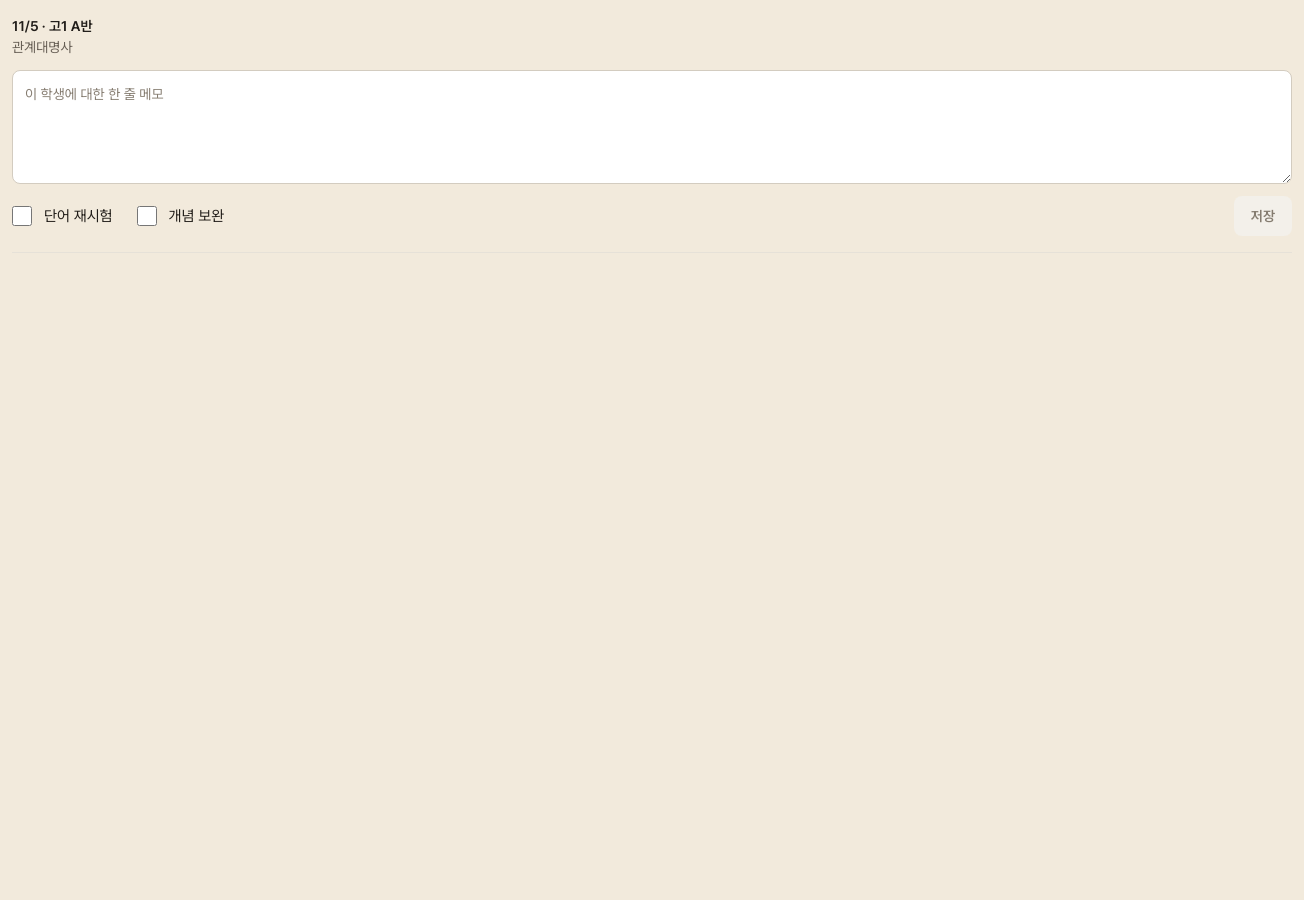
LessonNoteEditor › enables save only after a change and sends the checks
Expected: the button "저장" is disabled, [1234, 196, 1292, 236]
Click the checkbox labelled "단어 재시험". click: (22, 216)
box: [12, 206, 32, 226]
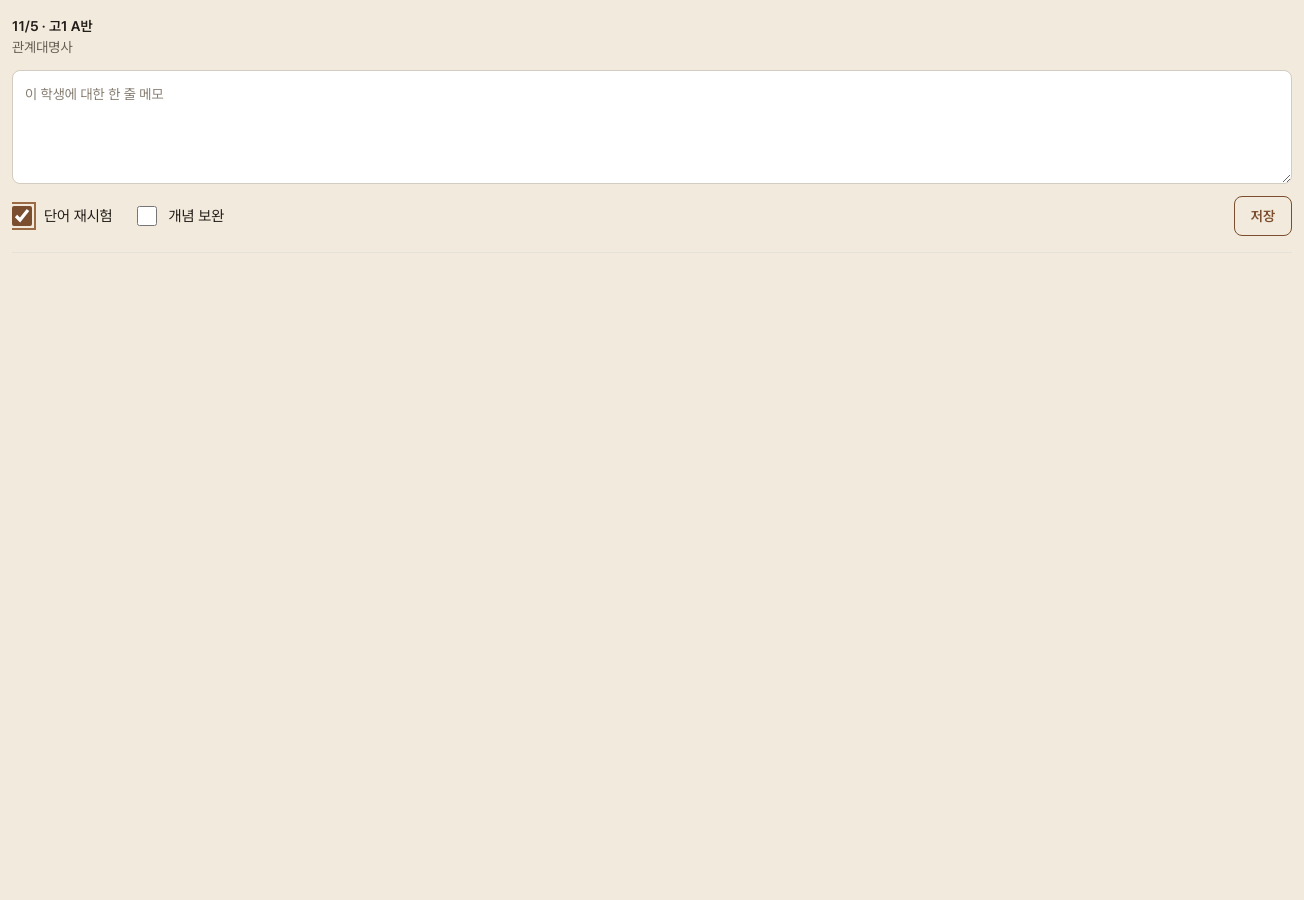
Expected: the button "저장" is enabled, [1234, 196, 1292, 236]
Type " 단어 약함 " into the text box named "학생 메모". click: (652, 127)
box: [12, 70, 1292, 184]
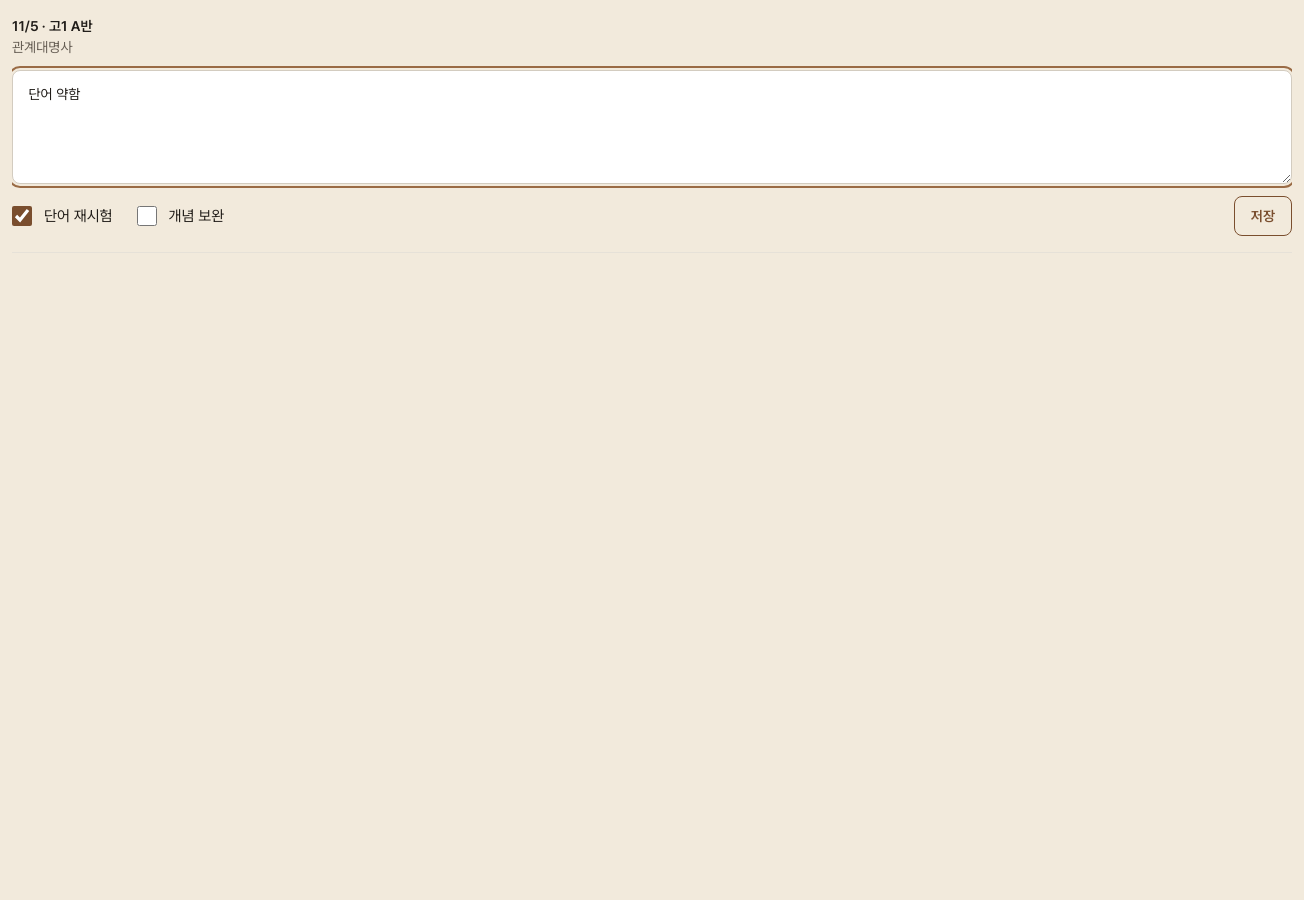
Click the button "저장". click: (1263, 216)
box: [1234, 196, 1292, 236]
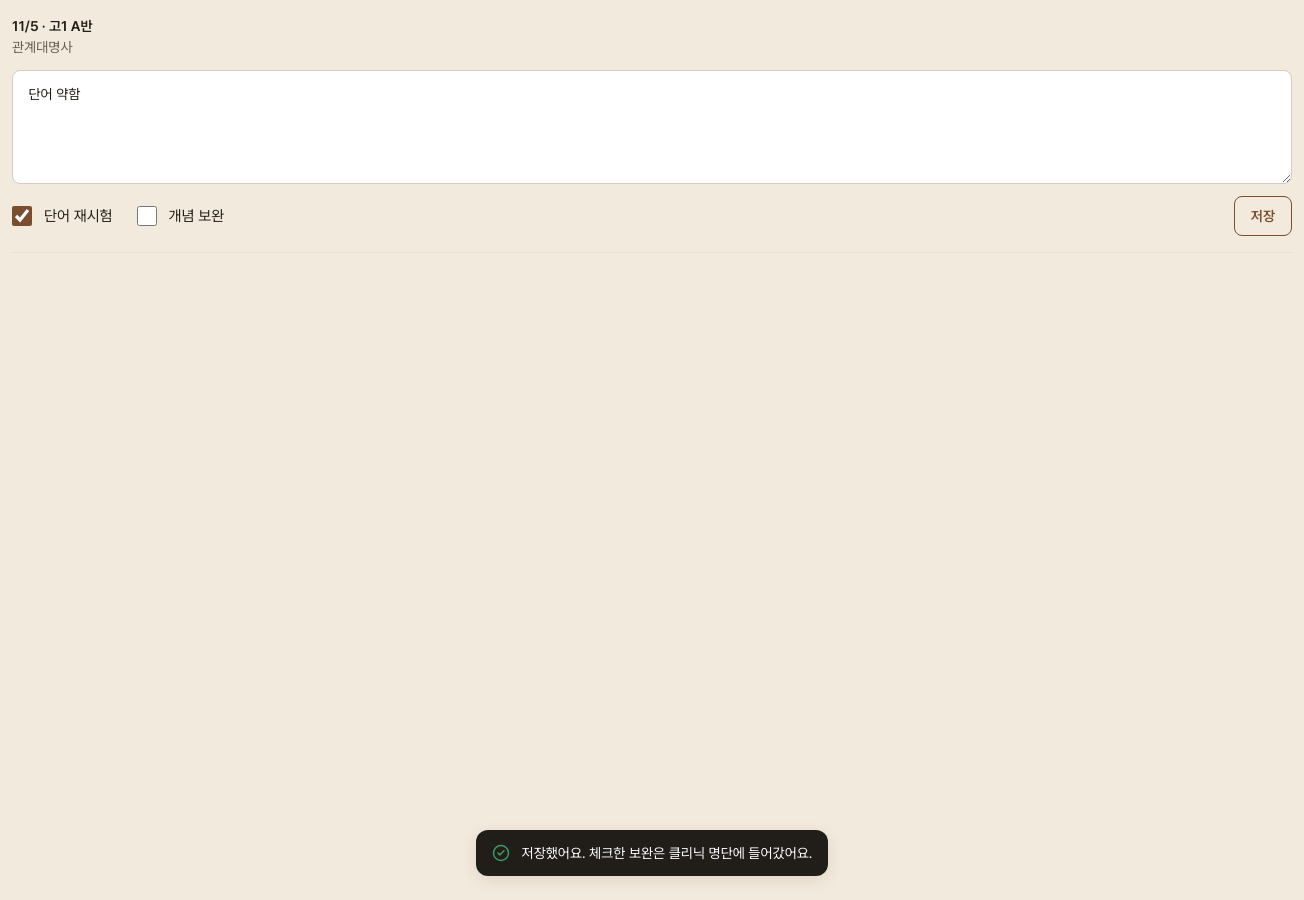
Expected: the text "저장했어요. 체크한 보완은 클리닉 명단에 들어갔어요." is shown, [522, 842, 812, 864]
